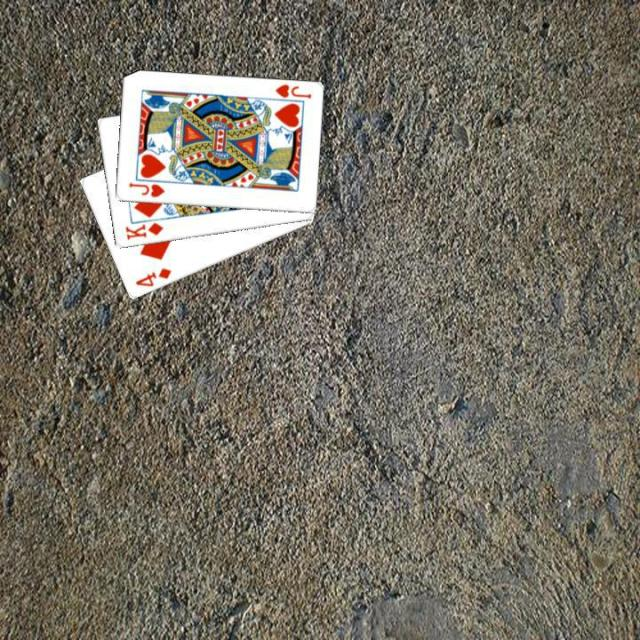4D: (132, 264, 172, 289)
JH: (126, 179, 166, 199), (271, 81, 312, 100)
KD: (121, 218, 165, 242)
